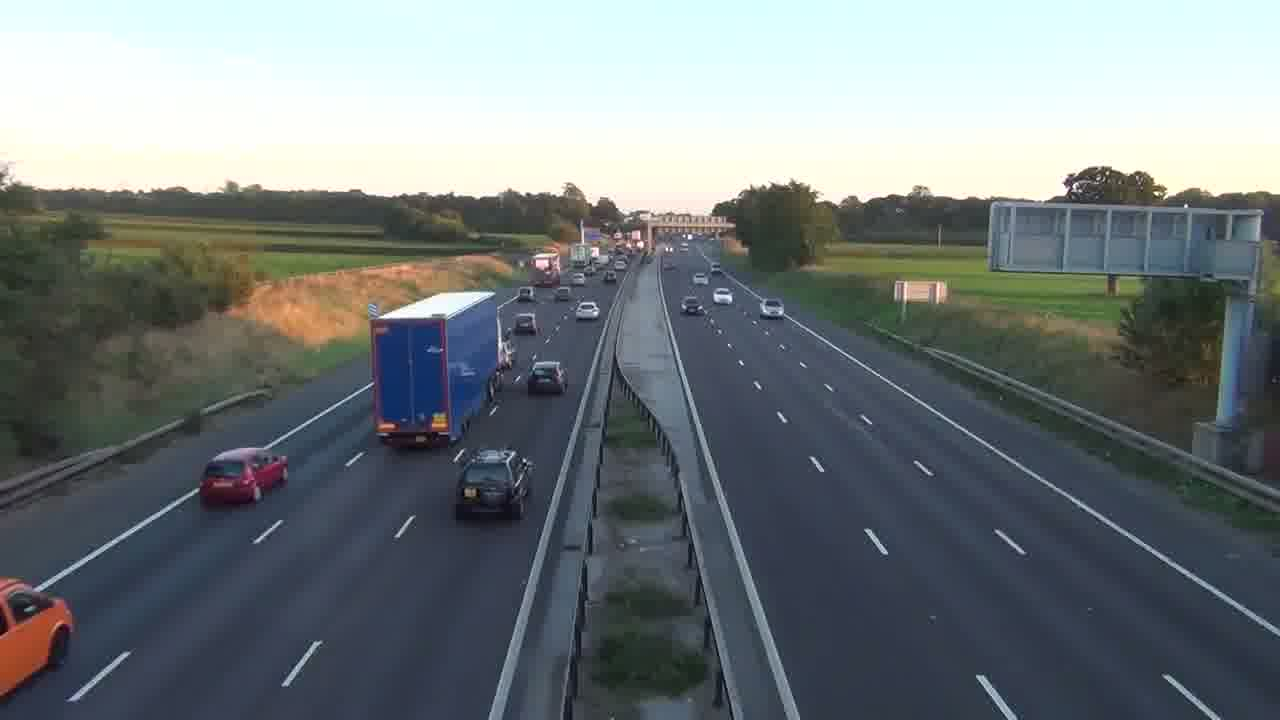car: (0, 576, 77, 700), (455, 449, 534, 519), (198, 446, 289, 506), (527, 359, 567, 395), (574, 299, 600, 320), (760, 298, 784, 319), (680, 295, 705, 315), (712, 288, 733, 305)
truck: (369, 289, 501, 450)
